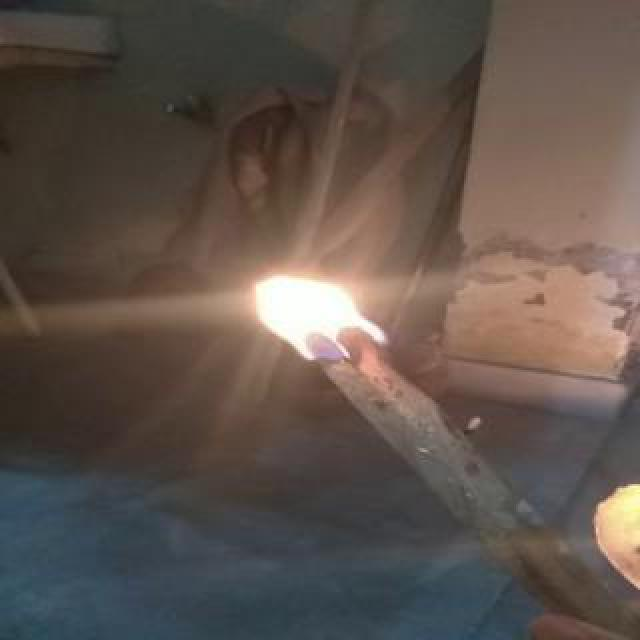Fire: (236, 244, 436, 364)
